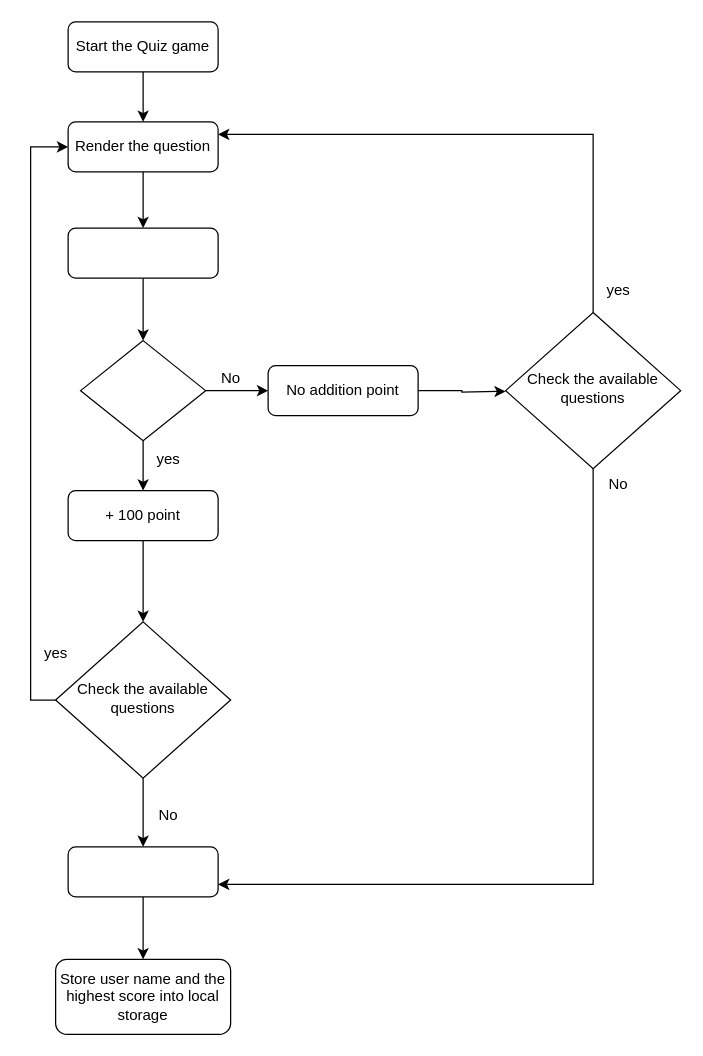
Image size: 703x1056. Some labels were removed from this diagram. The shapes that lost their labels are listed below. From the top down, each one's box as (x1, y1, x2, y2) in pixels, then its label:
(67, 227, 218, 278): Choose the answers
(79, 339, 206, 441): Correct
(67, 846, 218, 897): Input the User name
